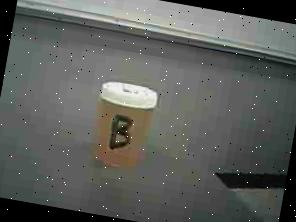Bottle B: (74, 71, 170, 182)
